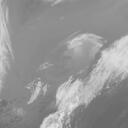cyclone: (46, 42, 106, 108)
